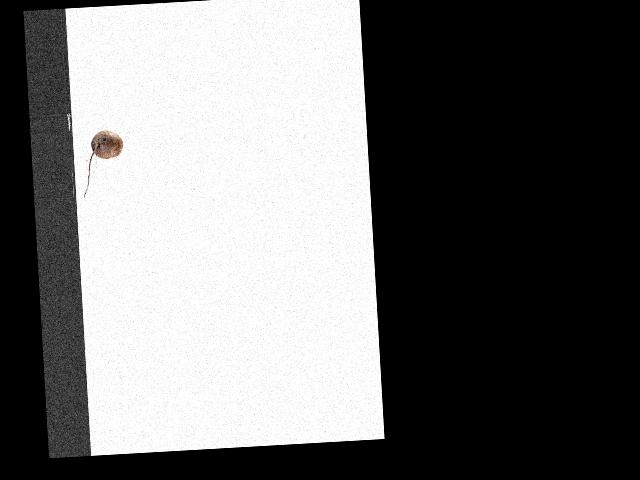beet: (79, 129, 125, 197)
